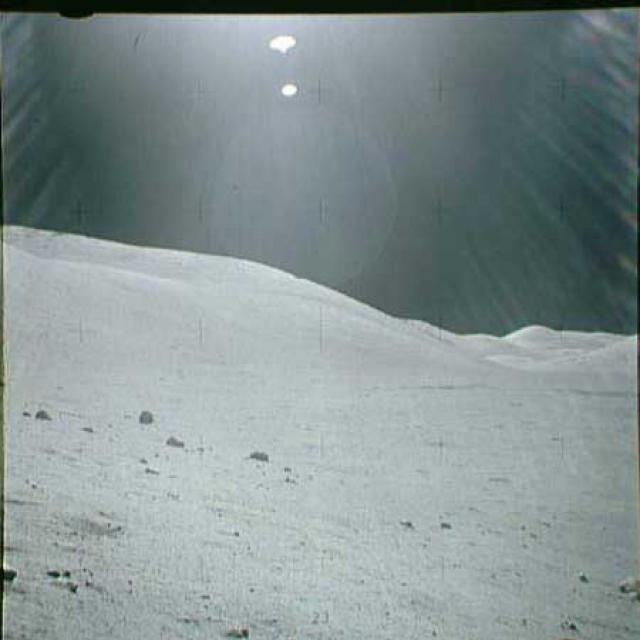rock: (610, 569, 639, 603), (2, 556, 21, 583), (134, 405, 156, 427), (32, 402, 56, 422), (246, 447, 271, 466), (164, 432, 187, 447)
